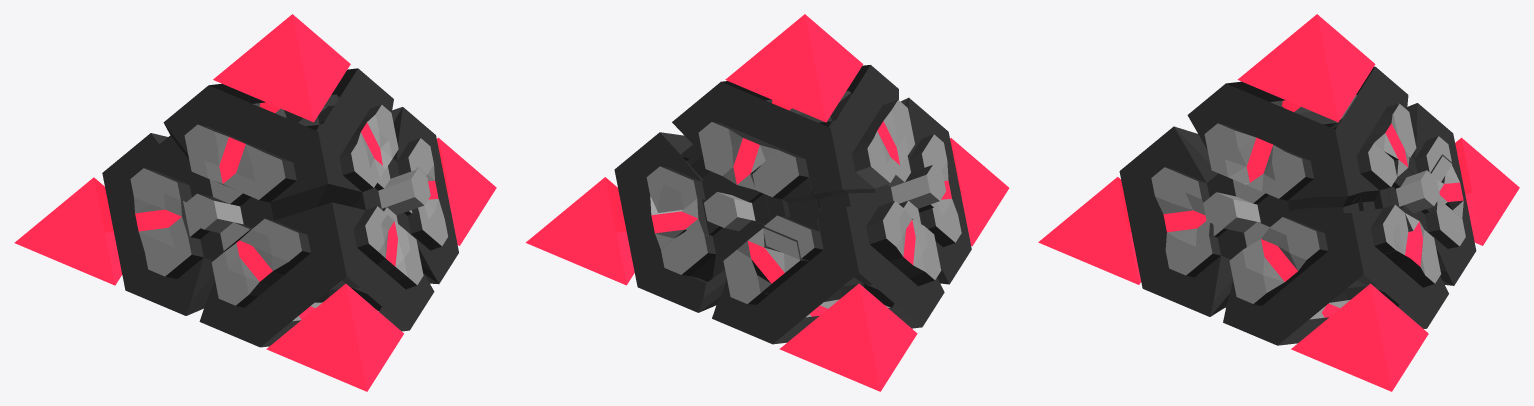
File: ConeRed.gltf
3 renders of one model, left to right at view 1: azimuth 30°, elevation 25°; view 2: azimuth 150°, elevation 25°; view 3: azimuth 270°, elevation 25°, orthographic.
Parts seen in each view (by area): view 1: ConeRed; view 2: ConeRed; view 3: ConeRed.
Part boxes in pixels (x1,y1,x2,y2): ConeRed: (14, 14, 496, 391); ConeRed: (525, 14, 1009, 391); ConeRed: (1038, 14, 1519, 391).
Size of the model in its own units: 0.3346 by 0.2186 by 0.3336.
